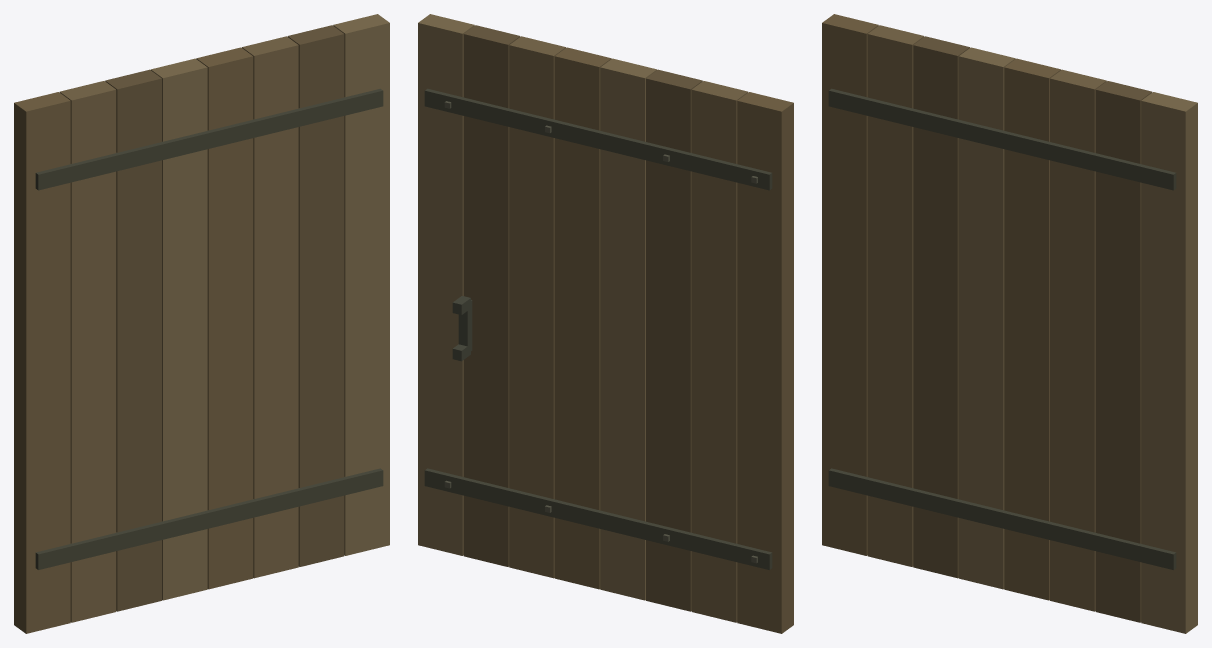
File: Porte_Accueil.fbx
The picture shows the model from 3 angles, left to right: view 1: azimuth 30°, elevation 25°; view 2: azimuth 150°, elevation 25°; view 3: azimuth 330°, elevation 25°; orthographic projection.
Visible parts, largest first — view 1: Porte_Planches, Ferrures; view 2: Porte_Planches, Ferrures; view 3: Porte_Planches, Ferrures.
Part boxes in pixels (x1,y1,x2,y2): Porte_Planches: (14,14,389,633); Ferrures: (35,88,383,569); Porte_Planches: (418,14,793,633); Ferrures: (424,88,772,569); Porte_Planches: (822,14,1197,633); Ferrures: (828,88,1176,569).
Bounding box in the file's own units: 181 × 249 × 23.6.
